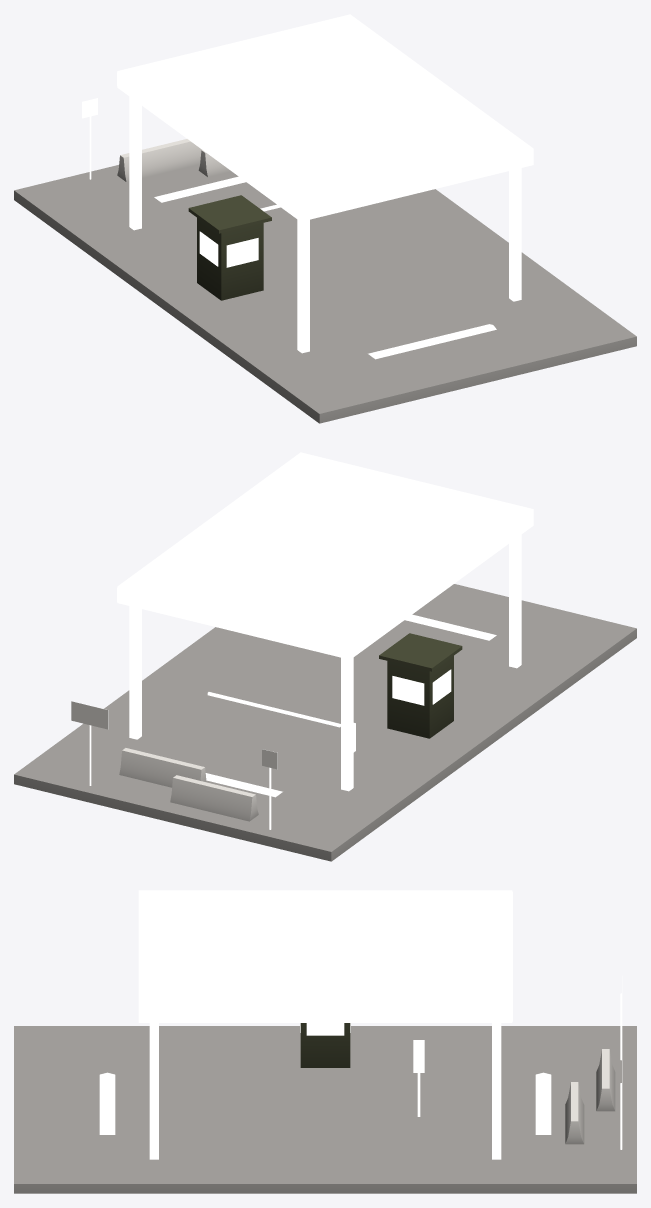
File: checkpoint_station.glb
3 views of the same model, one above another, from view 1: azimuth 30°, elevation 25°; view 2: azimuth 150°, elevation 25°; view 3: azimuth 270°, elevation 25° (orthographic).
Parts seen in each view (by area): view 1: checkpoint_station_LOD0; view 2: checkpoint_station_LOD0; view 3: checkpoint_station_LOD0.
Part boxes in pixels (bbox=[...]): checkpoint_station_LOD0: bbox=[14, 14, 636, 423]; checkpoint_station_LOD0: bbox=[14, 452, 636, 861]; checkpoint_station_LOD0: bbox=[14, 890, 636, 1193].
Size of what is drawn, in the model's own units: 12 by 5.9 by 20.
